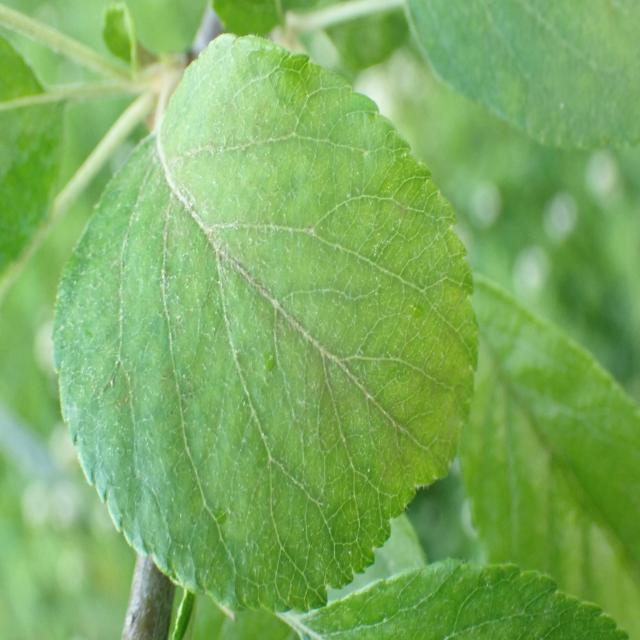scab: (110, 98, 436, 513)
